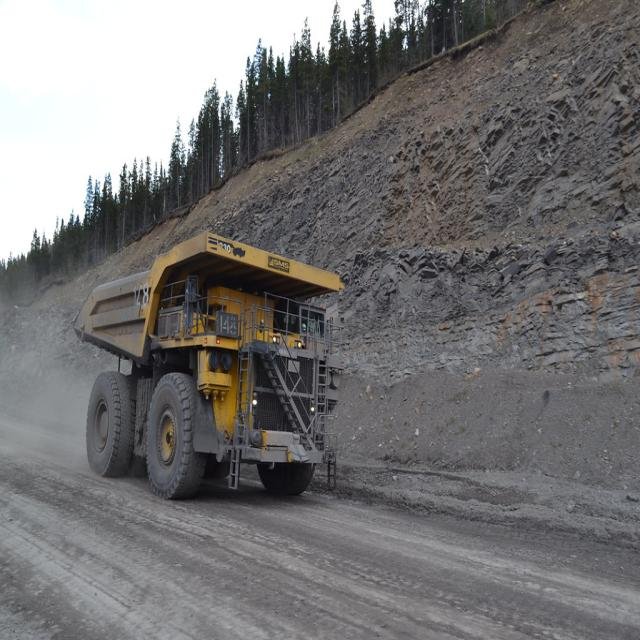dump_truck: (68, 228, 350, 501)
